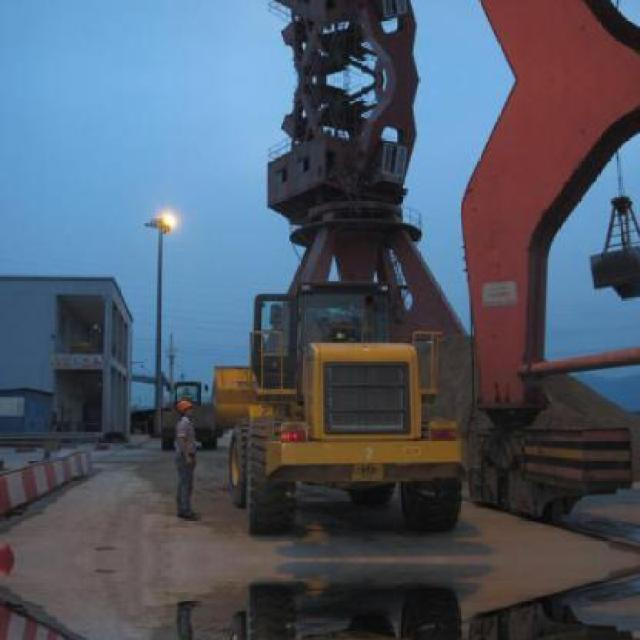helmet: (172, 398, 194, 413)
